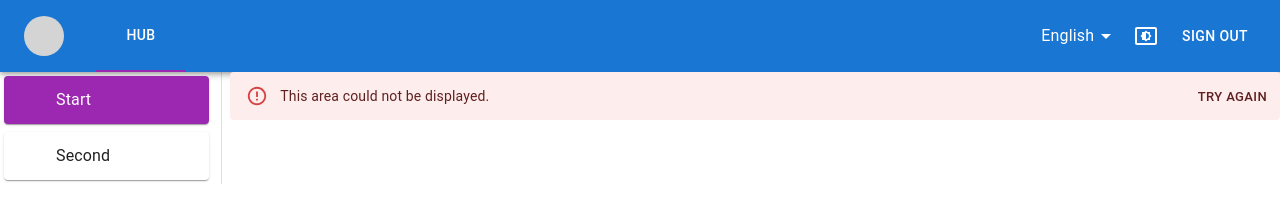
Test: createAppRouter: sidebars › entries › replaces only the content when the import of an entry fails; sidebar and tabs stay usable
The image size is (1280, 201).
Expected: the message "This area could not be displayed. Try again" is shown, [230,72,1279,120]
Expected: the navigation bar with test id "core.sidebar" is shown, [0,72,213,184]
Click the link "Second".
click(83, 156)  # box [56,146,110,165]
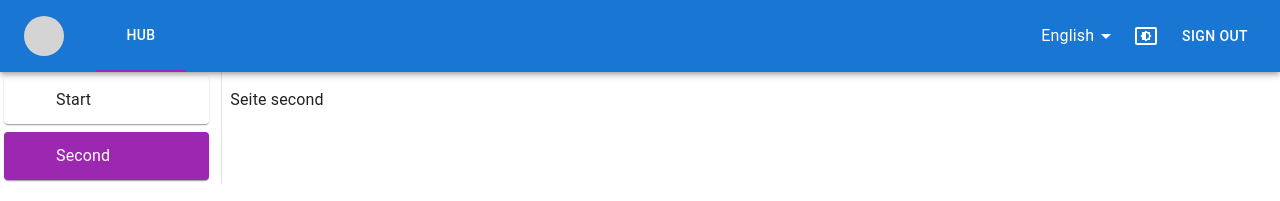
Expected: the text "Seite second" is shown, [230,90,324,109]
